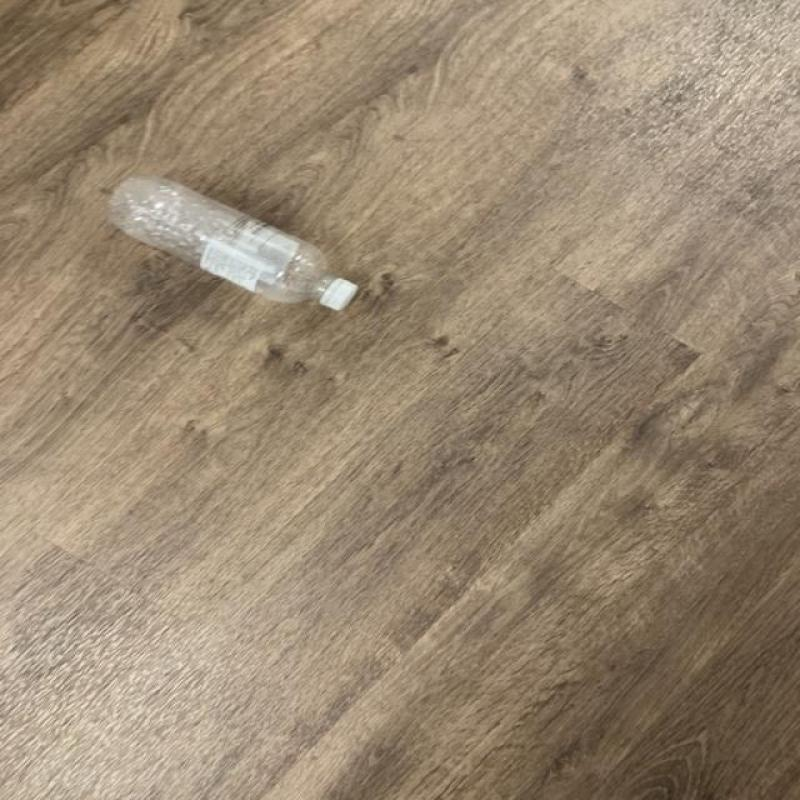botella: (106, 179, 360, 311)
